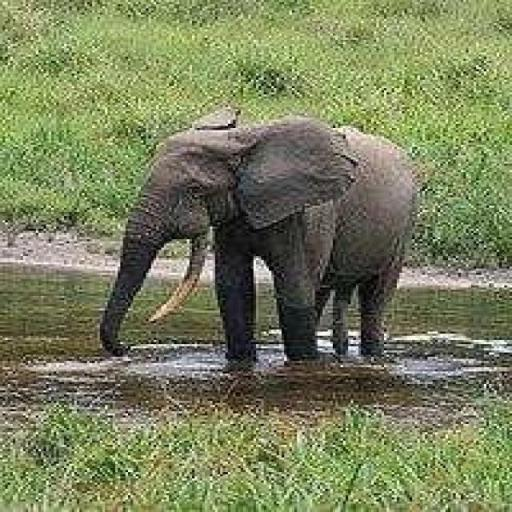Elephant: (97, 105, 420, 371)
